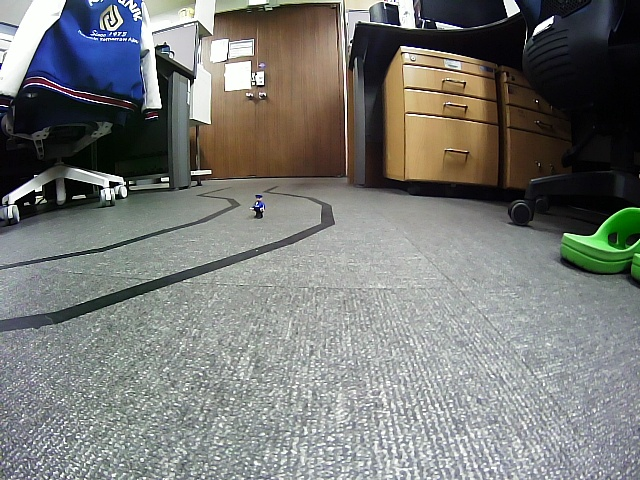person: (250, 194, 266, 220)
